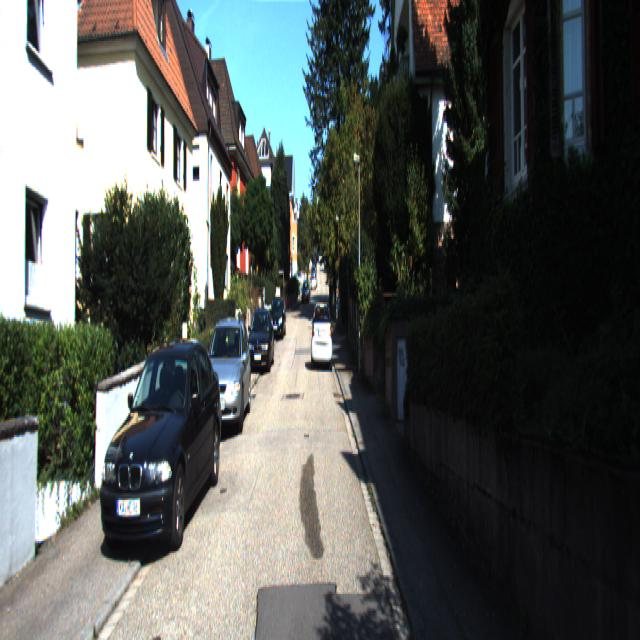Car: (97, 334, 227, 566), (200, 314, 253, 439), (246, 309, 276, 374), (310, 297, 332, 370), (269, 296, 286, 341)
